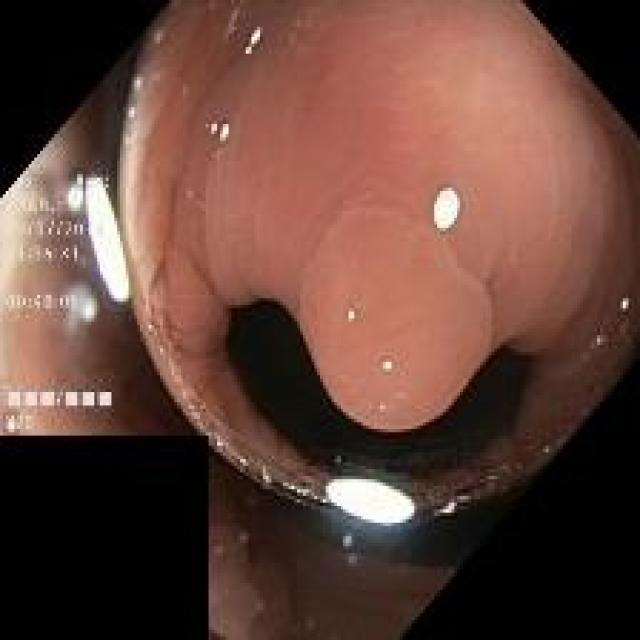Polyps: (298, 210, 492, 432)
